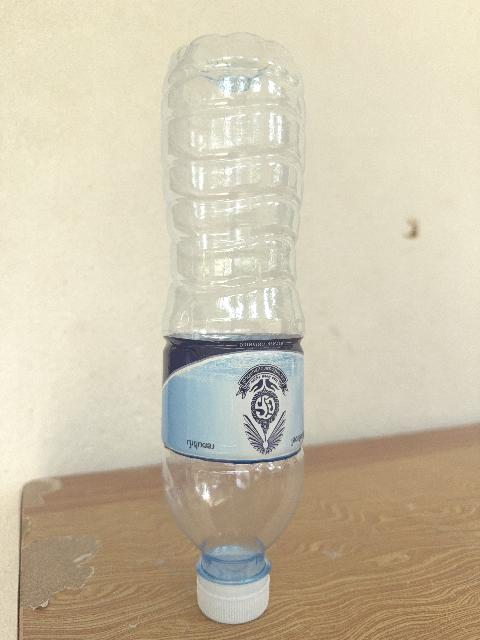bottle: (161, 34, 303, 623)
